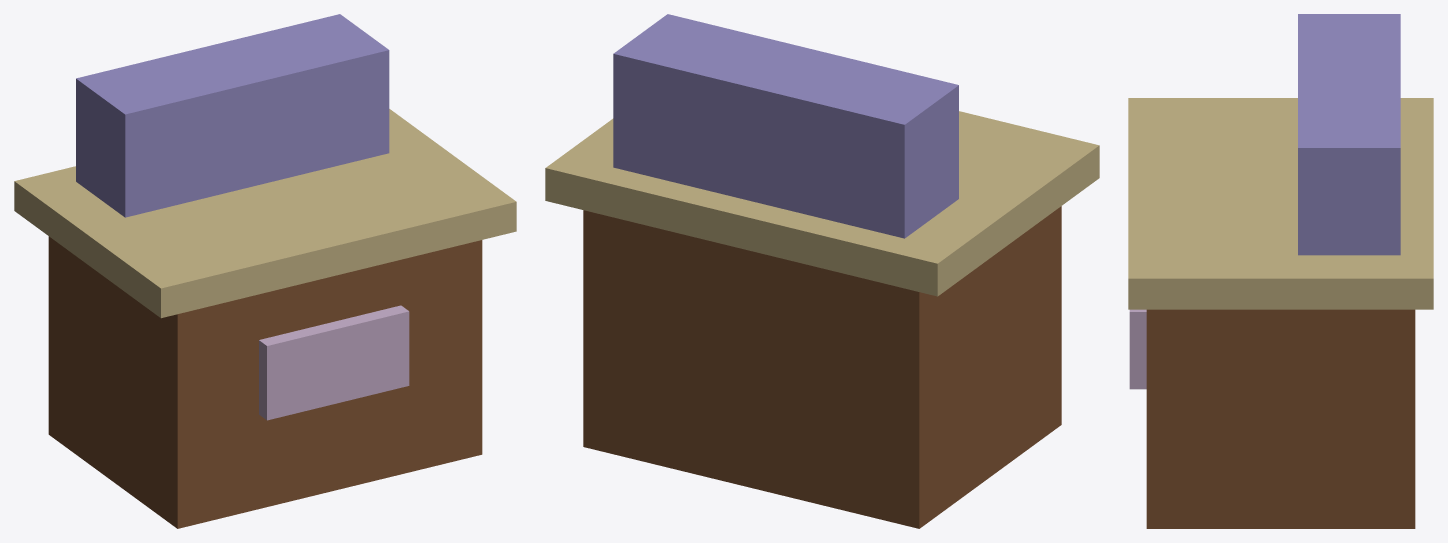
Rendered from bench.glb.
3 renders of one model, left to right at view 1: azimuth 30°, elevation 25°; view 2: azimuth 150°, elevation 25°; view 3: azimuth 270°, elevation 25°, orthographic. The views are drawn at different scales.
Parts seen in each view (by area): view 1: body, functional_surface, upper, accent_panel; view 2: body, upper, functional_surface; view 3: body, functional_surface, upper, accent_panel.
Boxes of the visible parts, x1,y1,x2,y2 form: body: (48,236,482,528); functional_surface: (14,109,516,318); upper: (76,14,389,217); accent_panel: (259,305,409,420); body: (583,206,1061,528); upper: (613,14,958,238); functional_surface: (545,111,1099,296); body: (1146,309,1415,528); functional_surface: (1128,98,1433,309); upper: (1298,14,1400,255); accent_panel: (1129,309,1146,389).
Size of what is drawn, in the model's own units: 1.75 by 1.68 by 1.25.
